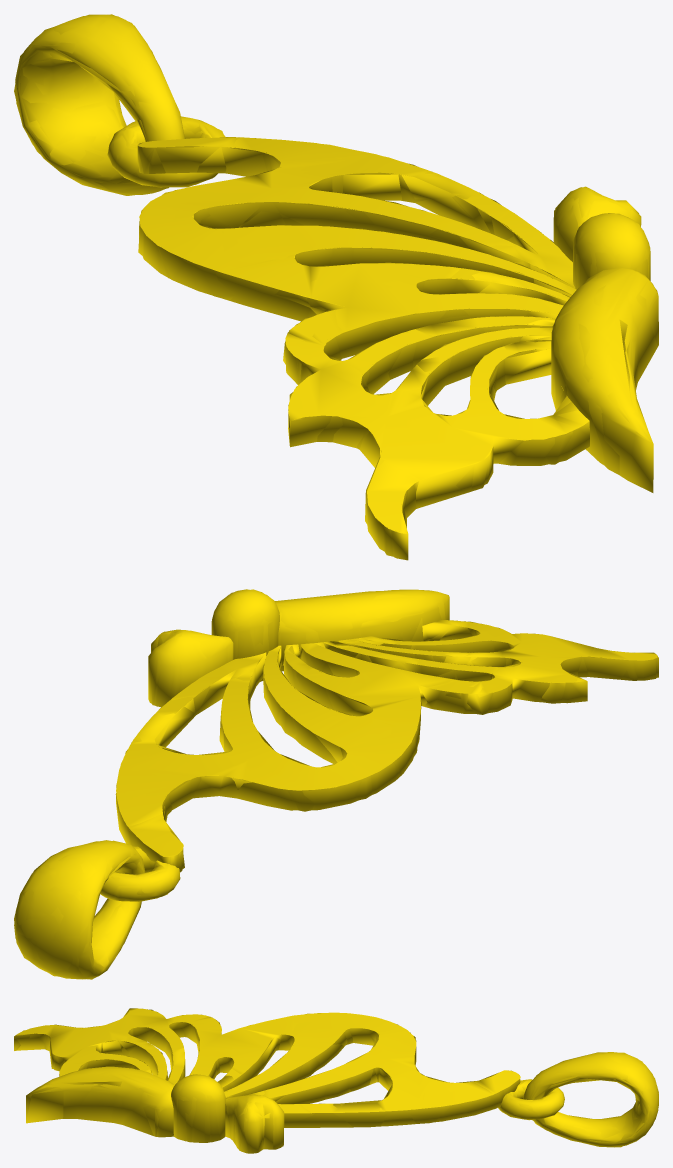
The picture shows the model from 3 angles, top to bottom: view 1: azimuth 30°, elevation 25°; view 2: azimuth 150°, elevation 25°; view 3: azimuth 270°, elevation 25°; orthographic projection. The views are drawn at different scales.
Visible parts, largest first — view 1: highPolyMesh, lowPolyMesh; view 2: highPolyMesh, lowPolyMesh; view 3: highPolyMesh, lowPolyMesh.
Part boxes in pixels (x1=…): highPolyMesh: x1=15, y1=14, x2=658, y2=560; lowPolyMesh: x1=14, y1=14, x2=658, y2=556; highPolyMesh: x1=14, y1=589, x2=657, y2=979; lowPolyMesh: x1=14, y1=589, x2=658, y2=979; highPolyMesh: x1=14, y1=1008, x2=658, y2=1153; lowPolyMesh: x1=14, y1=1008, x2=658, y2=1153.
Size of the model in its own units: 0.0132 by 0.00527 by 0.0287.
